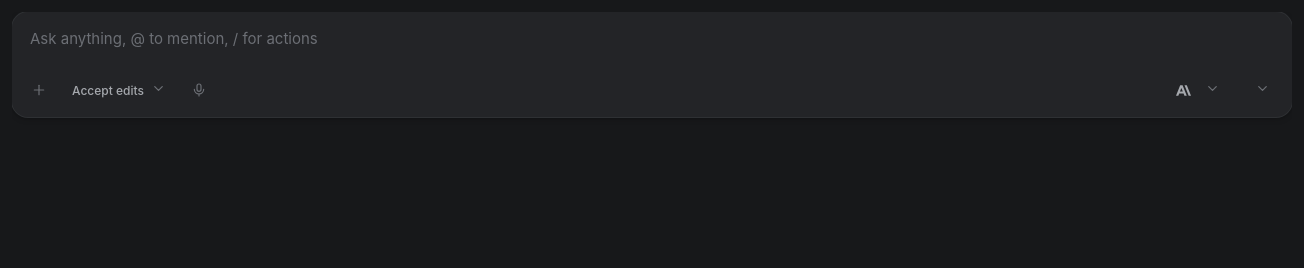
it: Add Context menu › opens on + and shows the four entries
Click the button named "Add context": click(39, 90) [24,75,54,105]
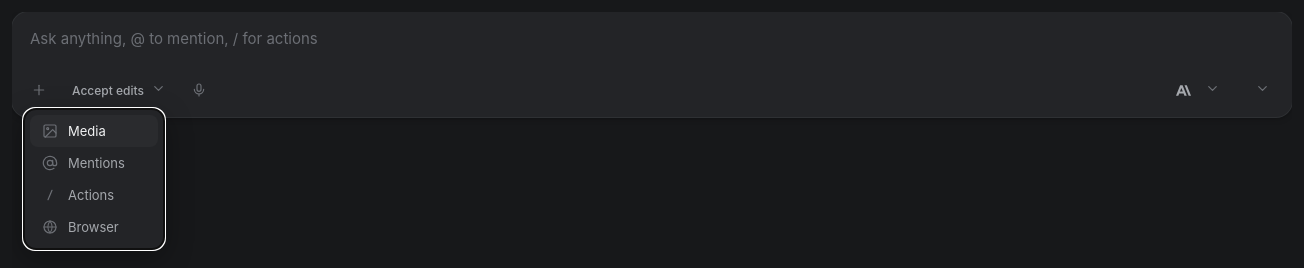
Expected: the text "Media" is shown, [68,123,106,139]
Expected: the text "Mentions" is shown, [68,155,125,171]
Expected: the text "Actions" is shown, [68,187,114,203]
